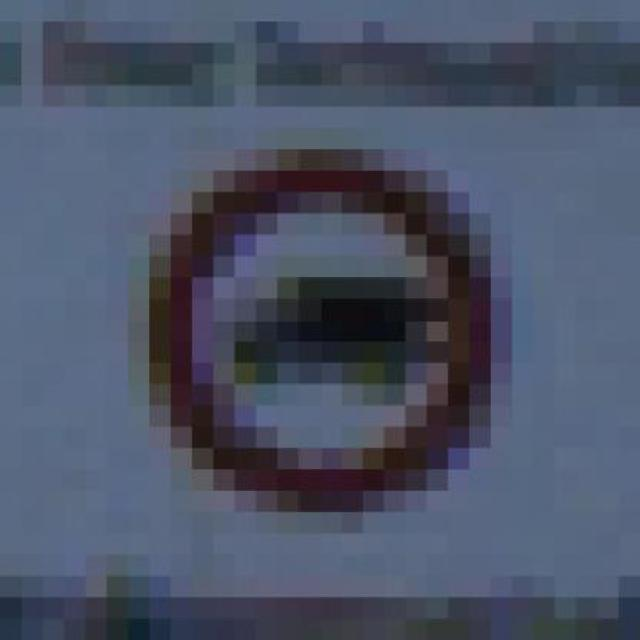Truck traffic is prohibited: (106, 106, 512, 512)
